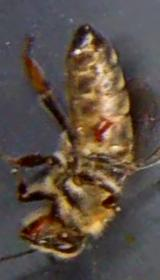varroa_mite: (90, 112, 118, 142)
